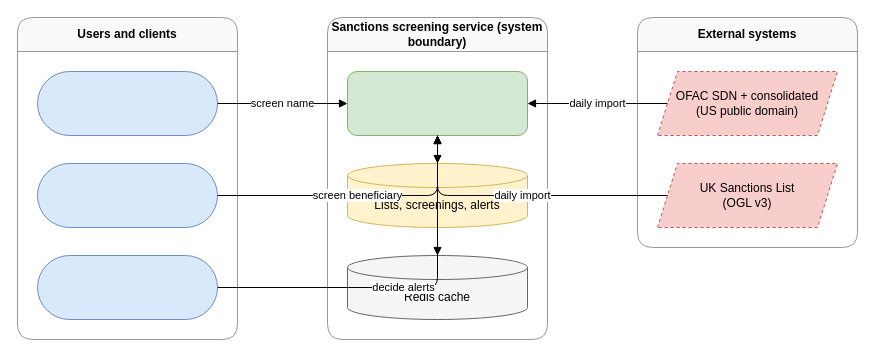
Some shapes in this 875 by 357 pixel diagram are drawn without their labels. The centre of each missing label's shape, as x and y in pixels:
"Compliance analysts" belongs at (127,287).
"Customer onboarding" belongs at (127,103).
"Payments engine (pre-release check)" belongs at (127,195).
"Screening API" belongs at (437,103).
